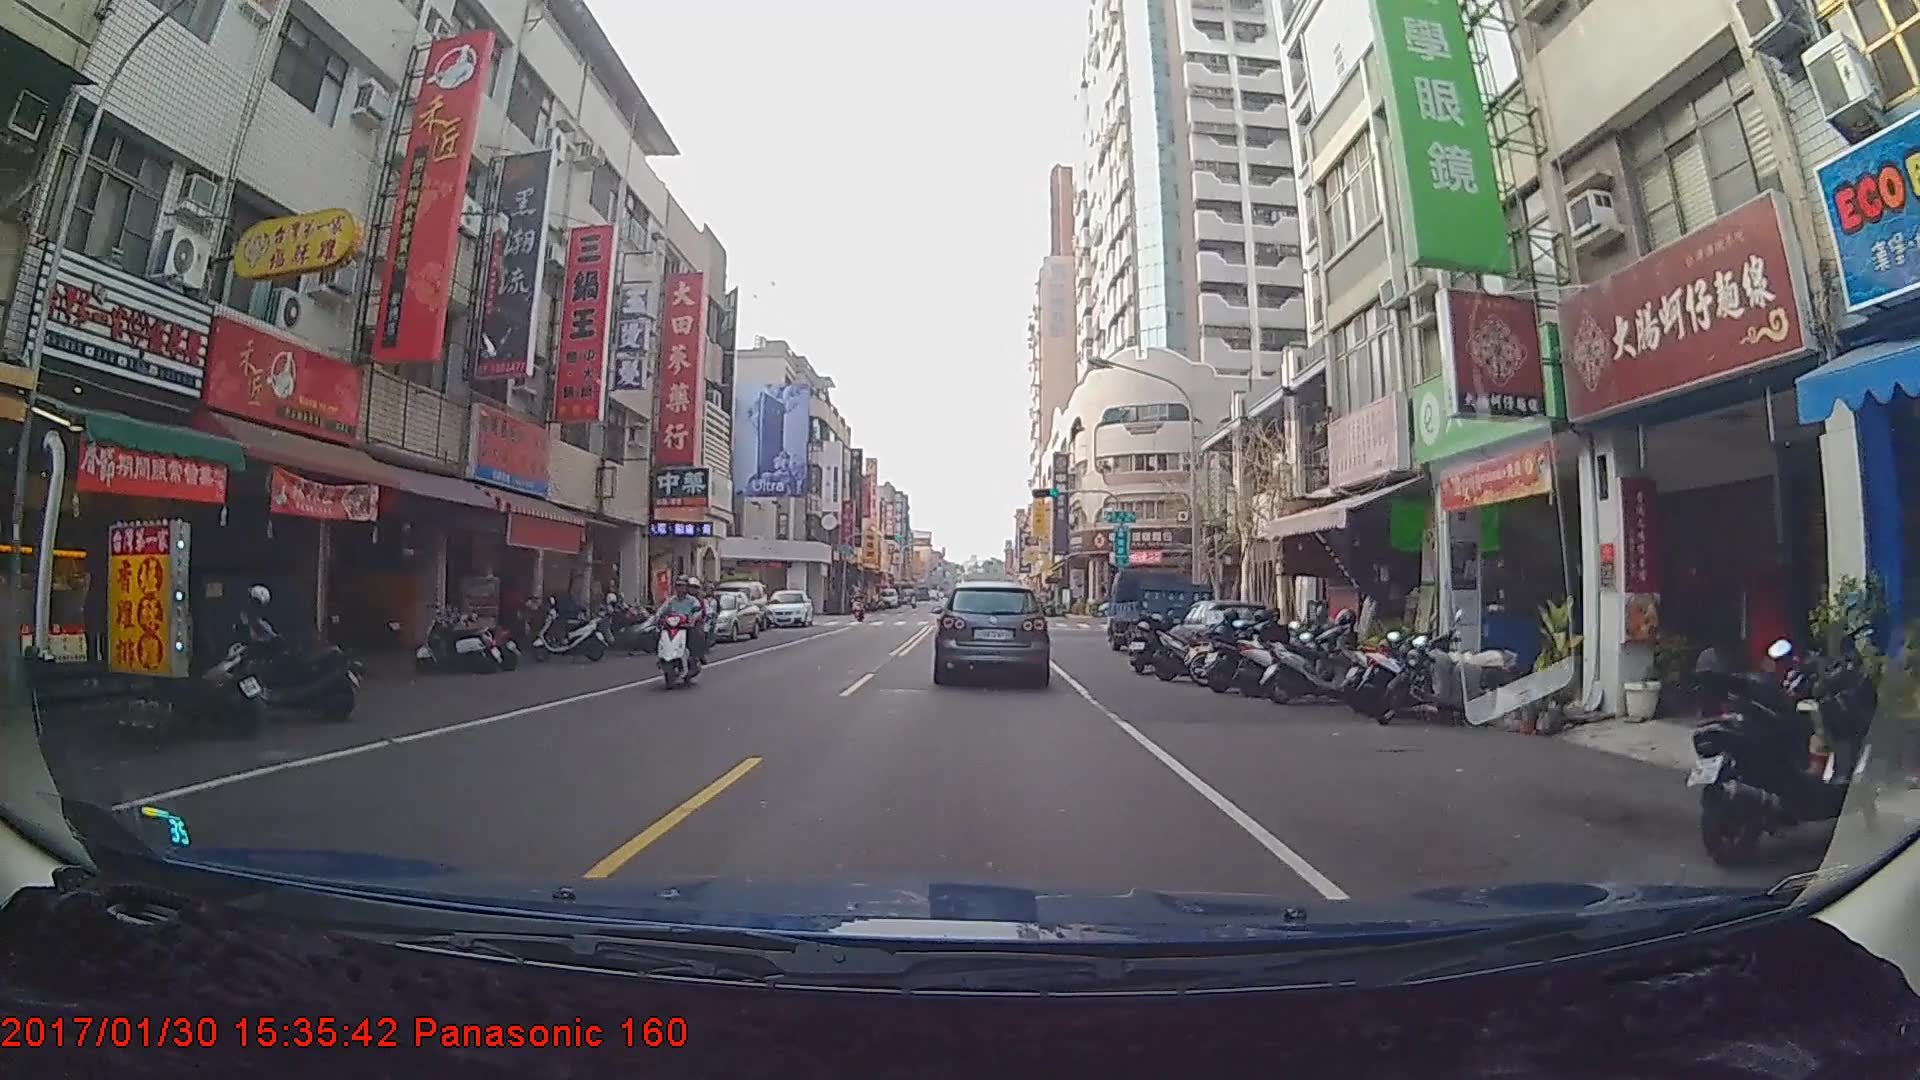rider: (651, 572, 716, 693), (849, 584, 869, 617)
vehicle: (935, 579, 1049, 684), (1103, 564, 1215, 653), (672, 587, 762, 642), (761, 585, 811, 627)
